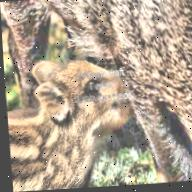boar: (3, 39, 137, 192)
